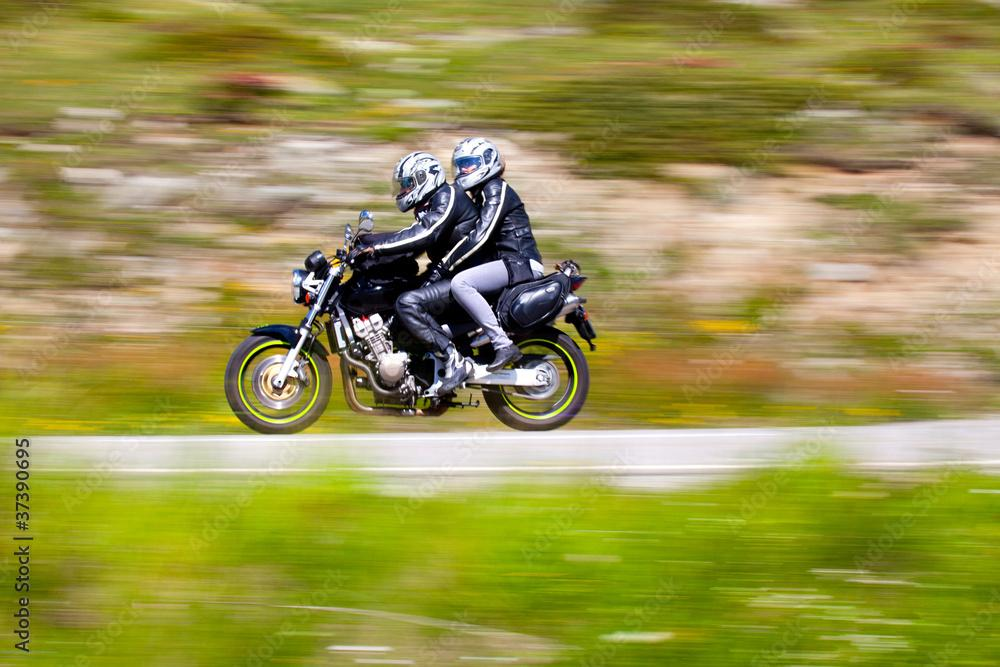helmet: (391, 151, 447, 214), (450, 136, 507, 193)
